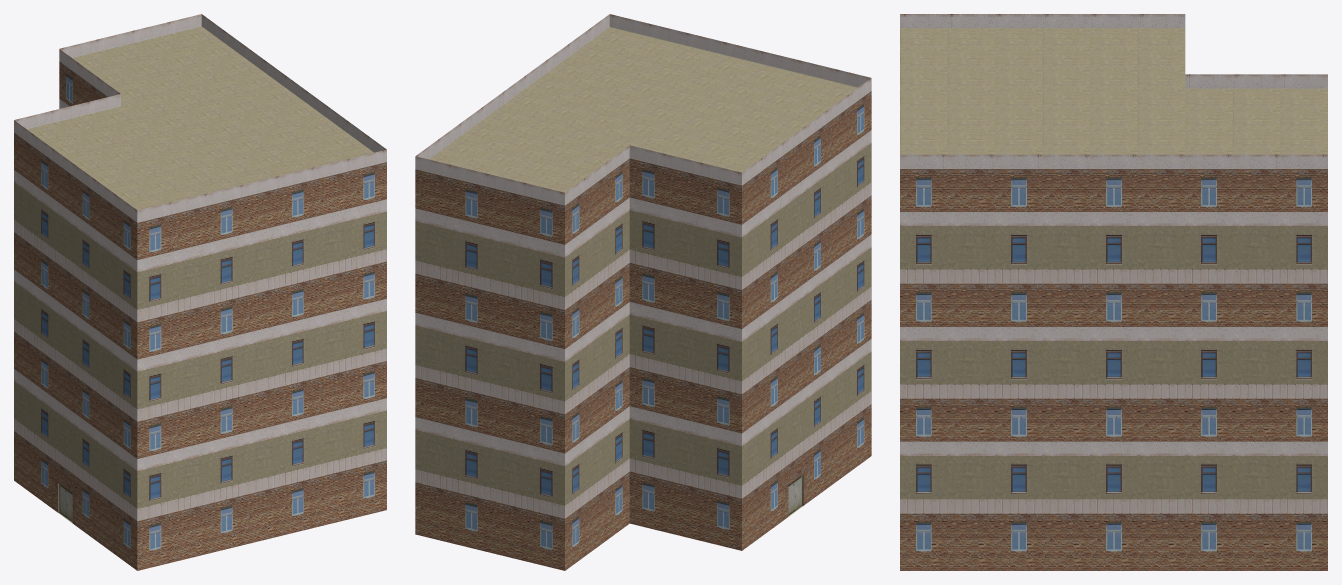
Rendered from flat_Lshape_large_alt.glb.
3 renders of one model, left to right at view 1: azimuth 30°, elevation 25°; view 2: azimuth 150°, elevation 25°; view 3: azimuth 270°, elevation 25°, orthographic. The views are drawn at different scales.
Visible parts, largest first — view 1: flat_Lshape_large_alt; view 2: flat_Lshape_large_alt; view 3: flat_Lshape_large_alt.
Part boxes in pixels (box(x1,y1,x2,y2)): flat_Lshape_large_alt: box(14, 14, 386, 570); flat_Lshape_large_alt: box(415, 14, 871, 570); flat_Lshape_large_alt: box(900, 14, 1327, 570).
Bounding box in the file's own units: 21 × 29 × 27.
1 material, 1 textured.
